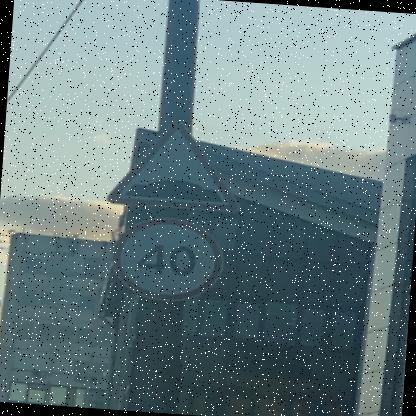speedlimit: (107, 213, 224, 303)
